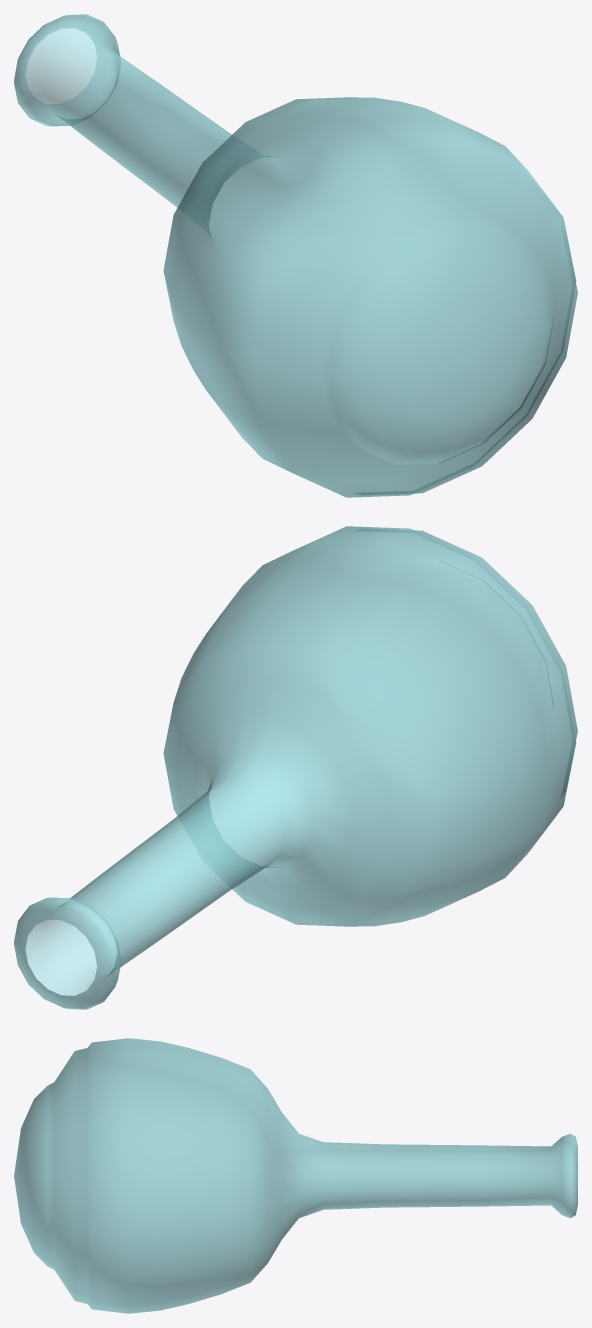
File: Bottle_Aqua.glb
The picture shows the model from 3 angles, top to bottom: view 1: azimuth 30°, elevation 25°; view 2: azimuth 150°, elevation 25°; view 3: azimuth 270°, elevation 25°; orthographic projection. The views are drawn at different scales.
Parts seen in each view (by area): view 1: Bottle_Aqua; view 2: Bottle_Aqua; view 3: Bottle_Aqua.
Boxes of the visible parts, x1,y1,x2,y2 form: Bottle_Aqua: [14, 14, 577, 497]; Bottle_Aqua: [14, 526, 577, 1009]; Bottle_Aqua: [14, 1038, 577, 1313].
Bounding box in the file's own units: 0.32 × 0.32 × 0.6543.
